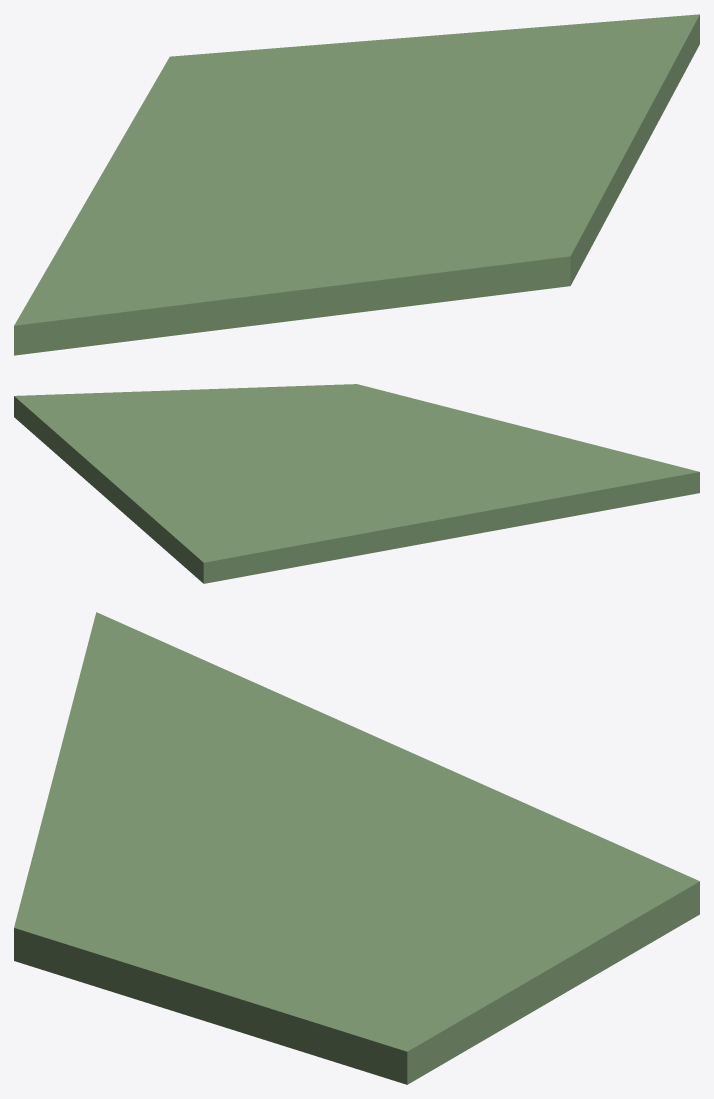
File: bottle-shard.glb
3 renders of one model, top to bottom at view 1: azimuth 30°, elevation 25°; view 2: azimuth 150°, elevation 25°; view 3: azimuth 270°, elevation 25°, orthographic. The views are drawn at different scales.
Visible parts, largest first — view 1: bottle glass shard; view 2: bottle glass shard; view 3: bottle glass shard.
Boxes of the visible parts, x1=… form: bottle glass shard: x1=14, y1=14, x2=699, y2=355; bottle glass shard: x1=14, y1=384, x2=699, y2=583; bottle glass shard: x1=14, y1=612, x2=699, y2=1084.
Bounding box in the file's own units: 0.116 × 0.00954 × 0.075.
